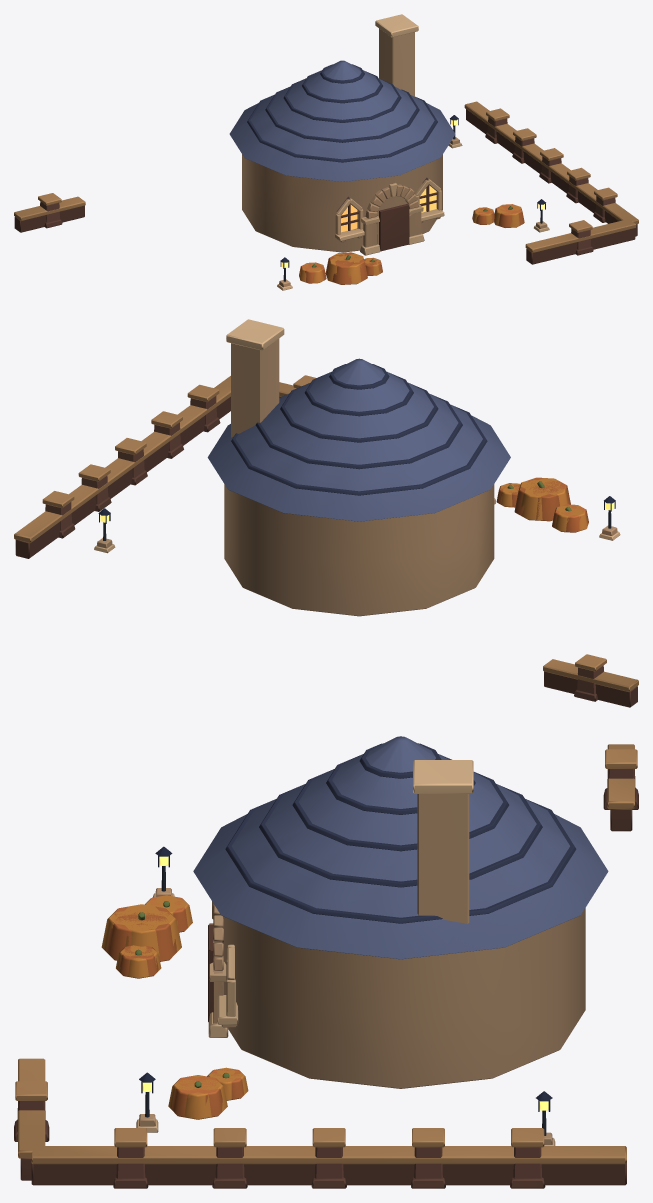
The model's file is hut.glb.
3 renders of one model, top to bottom at view 1: azimuth 30°, elevation 25°; view 2: azimuth 150°, elevation 25°; view 3: azimuth 270°, elevation 25°, orthographic. The views are drawn at different scales.
Visible parts, largest first — view 1: hut; view 2: hut; view 3: hut.
Boxes of the visible parts, <box> form: hut: <box>14,14,638,290</box>; hut: <box>14,319,638,707</box>; hut: <box>14,736,638,1188</box>.
Bounding box in the file's own units: 17.82 × 5.99 × 11.34.
